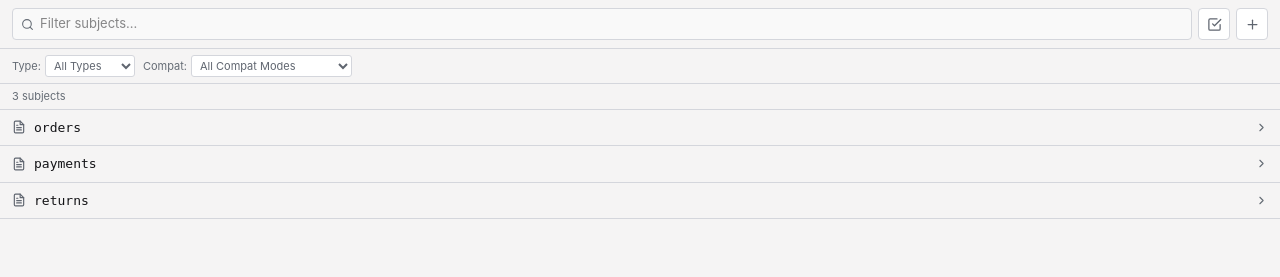
Test: [@schema-list-coverage] bulk mode — enter and exit › entering bulk mode shows checkboxes and hides create button
Click the button named "enter bulk selection mode" at (1214, 24), box [1198,8,1230,40]
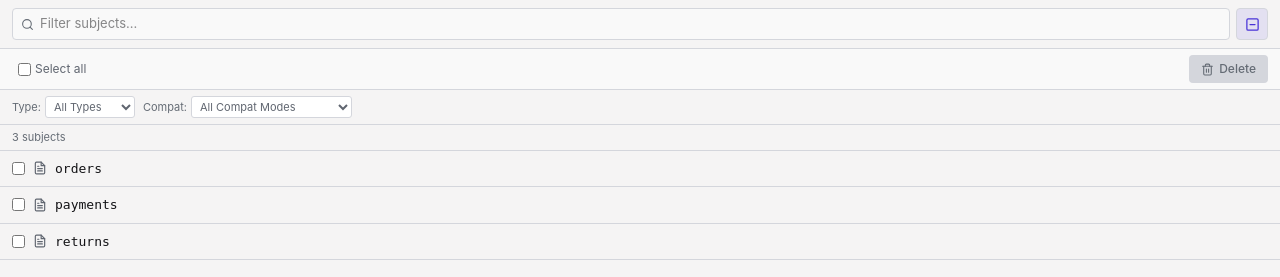
Now the element named "bulk selection actions" is shown, box [0,49,1279,90]
